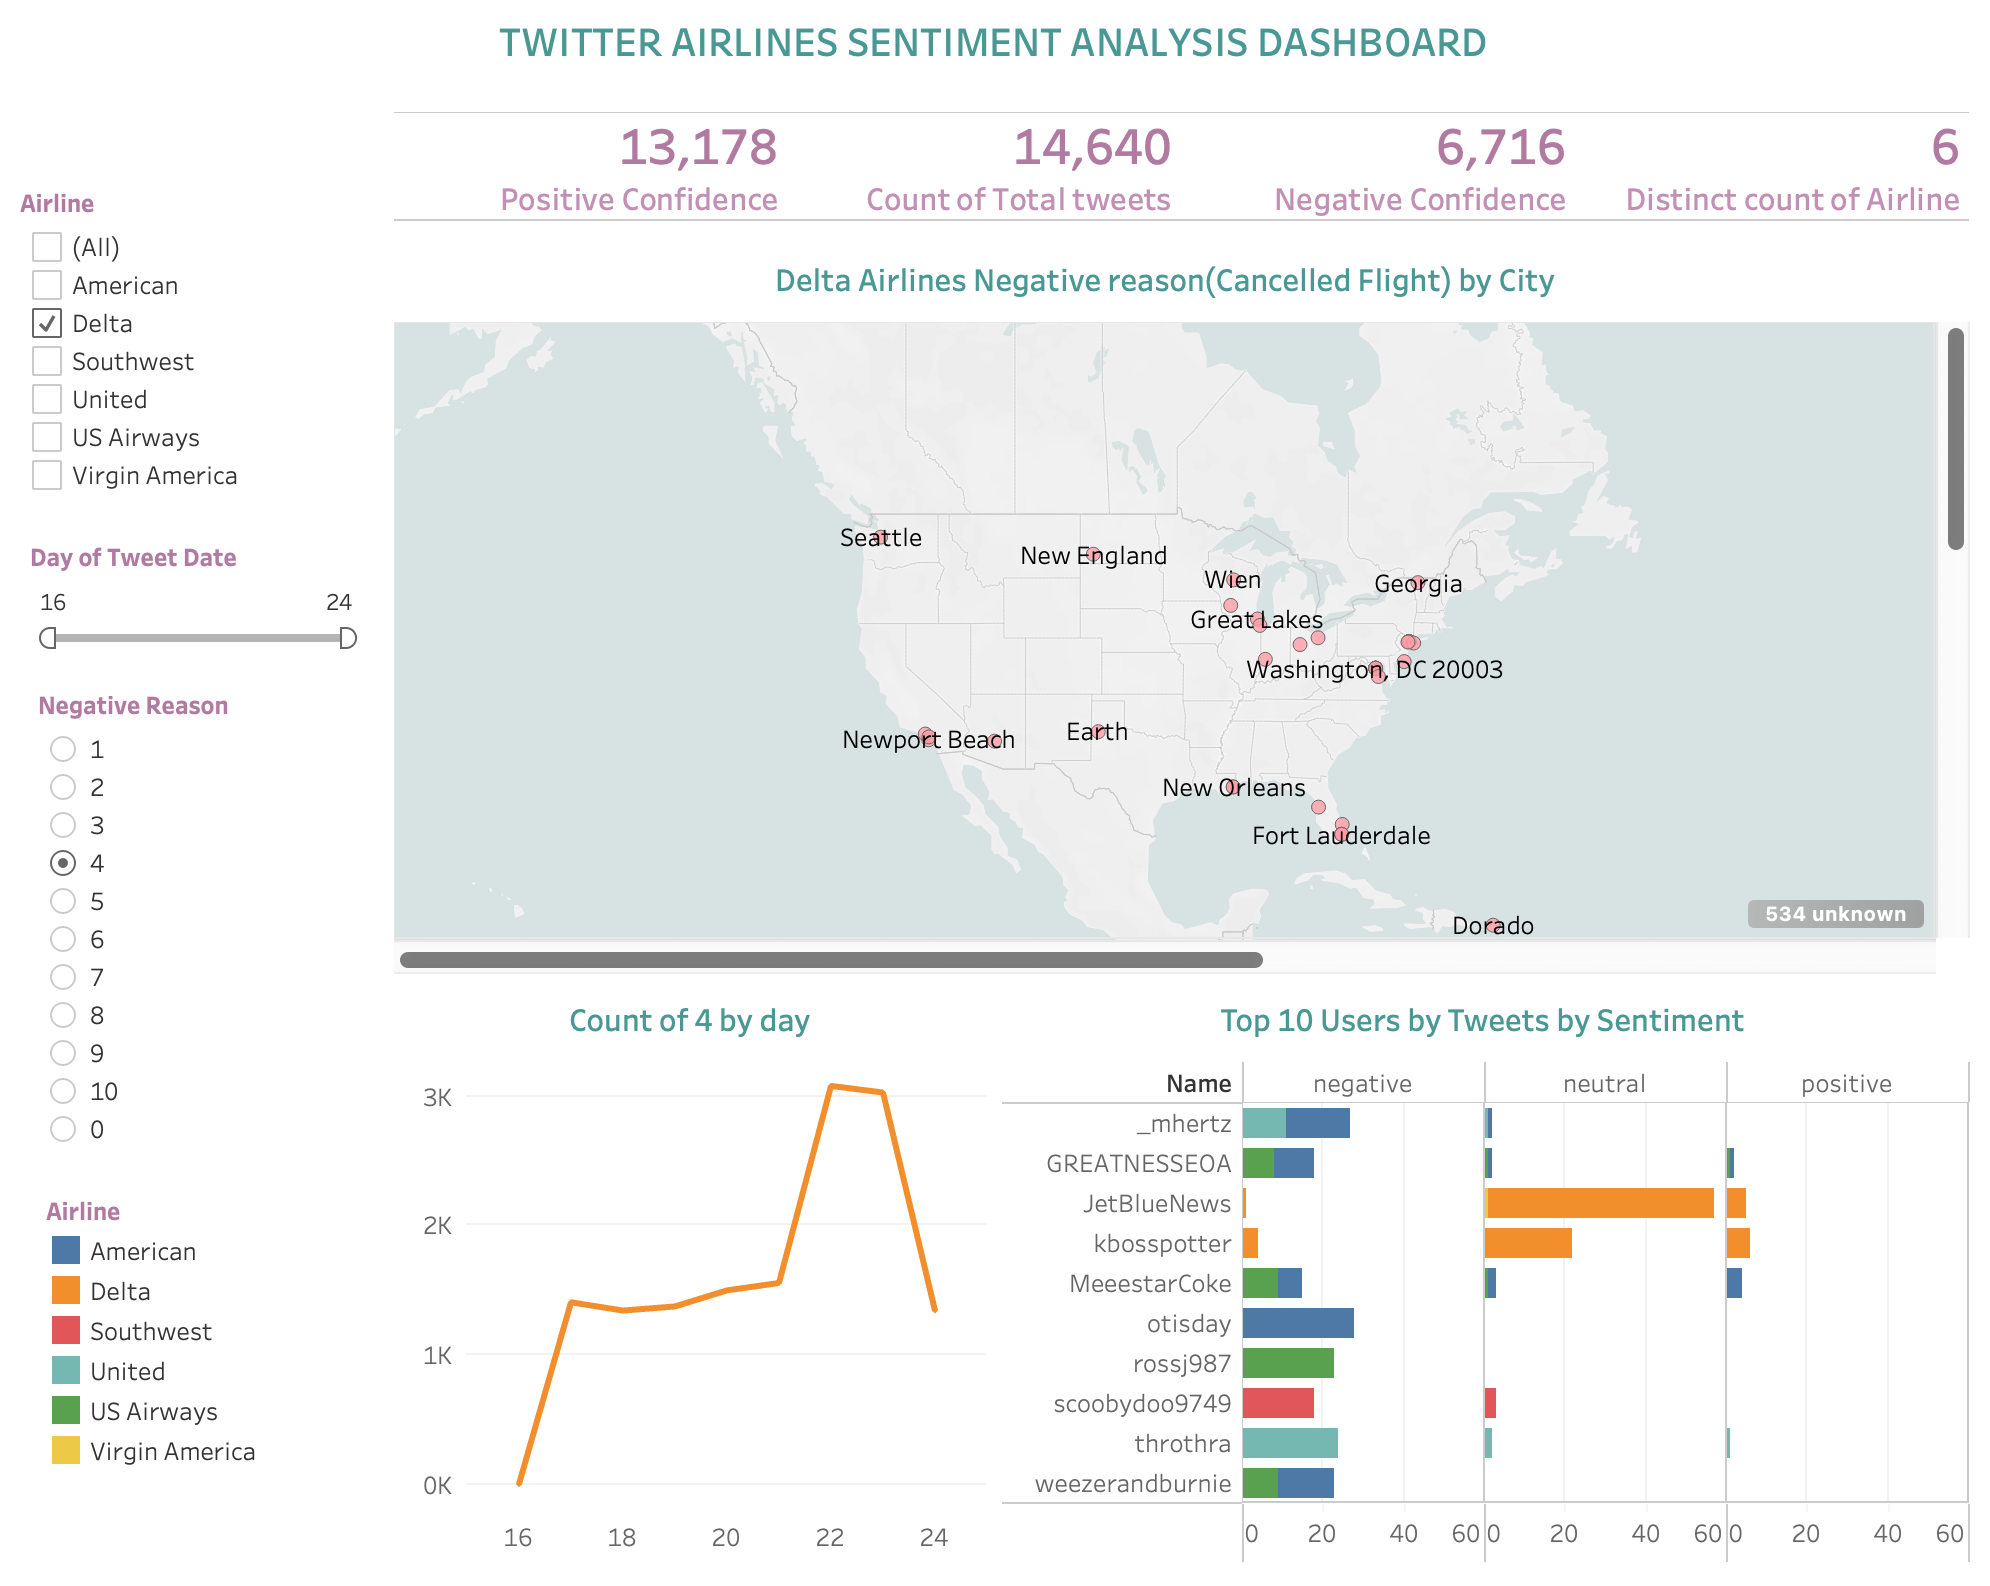

Layout of this report page (visuals, bound fields, positions):
{"tool":"tableau","page":{"name":"Dashboard 1","canvas":[1000,800],"ordinal":0},"visuals":[{"type":"text","box":[8,8,984,34]},{"type":"image","param":"/Users/sushmachundru/Desktop/360_F_215517687_MLMCHbyaOb5z8OBffOUw6ASwXDTfjV5v.jp","box":[16,11,156,69]},{"type":"worksheet","title":"Sheet 3","mark":"Automatic","box":[196,42,796,78]},{"type":"filter","title":"Sheet 2","param":"[federated.0aoynf91e2tg2s1cp955x1bj6ia4].[none:airline:nk]","box":[13,98,168,165]},{"type":"worksheet","title":"Sheet 2","mark":"Multipolygon","box":[196,126,796,370]},{"type":"filter","title":"Sheet 2","param":"[federated.0aoynf91e2tg2s1cp955x1bj6ia4].[dy:tweet_date:qk]","box":[18,275,168,69]},{"type":"parameter","param":"[Parameters].[Parameter 1]","box":[22,349,160,233]},{"type":"worksheet","title":"Sheet 4","mark":"Automatic","rows":["Calculation_4459478485169664003"],"cols":["tweet_date"],"box":[196,496,304,296]},{"type":"worksheet","title":"Sheet 6","mark":"Automatic","rows":["name"],"cols":["airline_sentiment","tweet_id"],"box":[500,496,492,295]},{"type":"legend","title":"Sheet 6","param":"[federated.0aoynf91e2tg2s1cp955x1bj6ia4].[none:airline:nk]","box":[26,602,140,138]}]}

Visuals, with their boxes in screenshot pixels (x1, y1, x2, y2), scaled from the page's 1000x800 canvas onto the 1990x1586 screenshot:
text: <box>16,16,1974,83</box>
image: <box>32,22,342,159</box>
"Sheet 3" worksheet: <box>390,83,1974,238</box>
"Sheet 2" filter: <box>26,194,360,521</box>
"Sheet 2" worksheet (Multipolygon marks): <box>390,250,1974,983</box>
"Sheet 2" filter: <box>36,545,370,682</box>
parameter: <box>44,692,362,1154</box>
"Sheet 4" worksheet: <box>390,983,995,1570</box>
"Sheet 6" worksheet: <box>995,983,1974,1568</box>
"Sheet 6" legend: <box>52,1193,330,1467</box>
